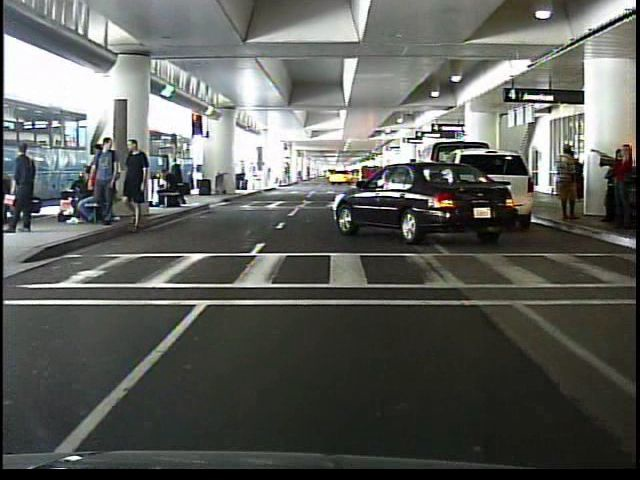person: (8, 138, 42, 237), (555, 143, 582, 224), (154, 163, 183, 210)
